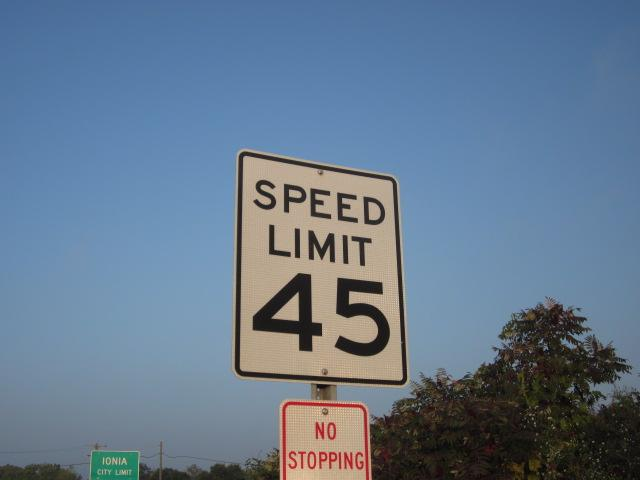regulatory: (224, 146, 417, 395), (272, 395, 377, 480)
